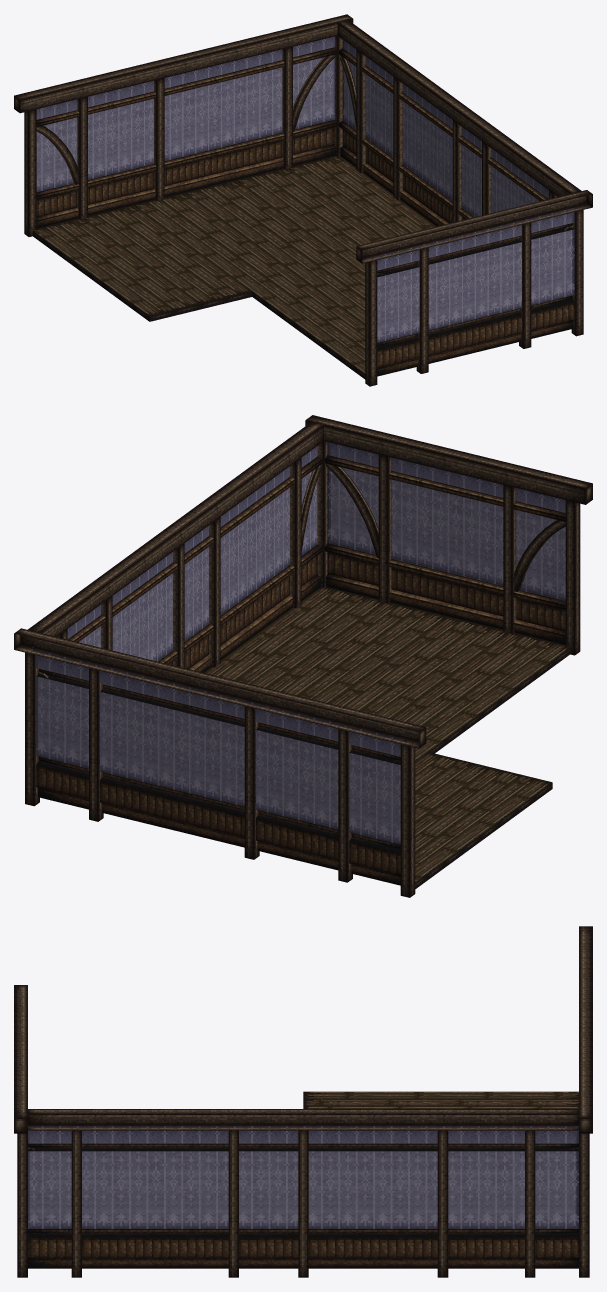
The model's file is EnvBdgMD_City_C_Indoor_Inn.FBX.
3 views of the same model, one above another, from view 1: azimuth 30°, elevation 25°; view 2: azimuth 150°, elevation 25°; view 3: azimuth 270°, elevation 25° (orthographic). The views are drawn at different scales.
Visible parts, largest first — view 1: EnvBdgMD_City_C_Indoor_Inn; view 2: EnvBdgMD_City_C_Indoor_Inn; view 3: EnvBdgMD_City_C_Indoor_Inn.
Part boxes in pixels (x1,y1,x2,y2): EnvBdgMD_City_C_Indoor_Inn: [14, 14, 592, 386]; EnvBdgMD_City_C_Indoor_Inn: [14, 415, 592, 897]; EnvBdgMD_City_C_Indoor_Inn: [14, 926, 592, 1277].
Bounding box in the file's own units: 1300 × 520 × 1660.
